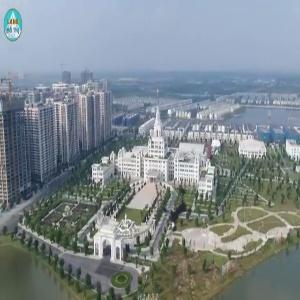drone: (136, 172, 216, 252)
